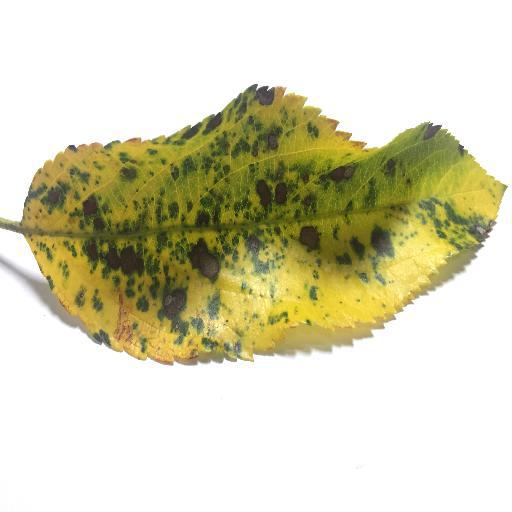Brown_Spot: (79, 240, 147, 276), (40, 192, 108, 218), (182, 248, 220, 279), (250, 176, 289, 206), (117, 308, 137, 358), (164, 291, 186, 320), (177, 115, 226, 126), (299, 228, 319, 253), (325, 164, 349, 181)
